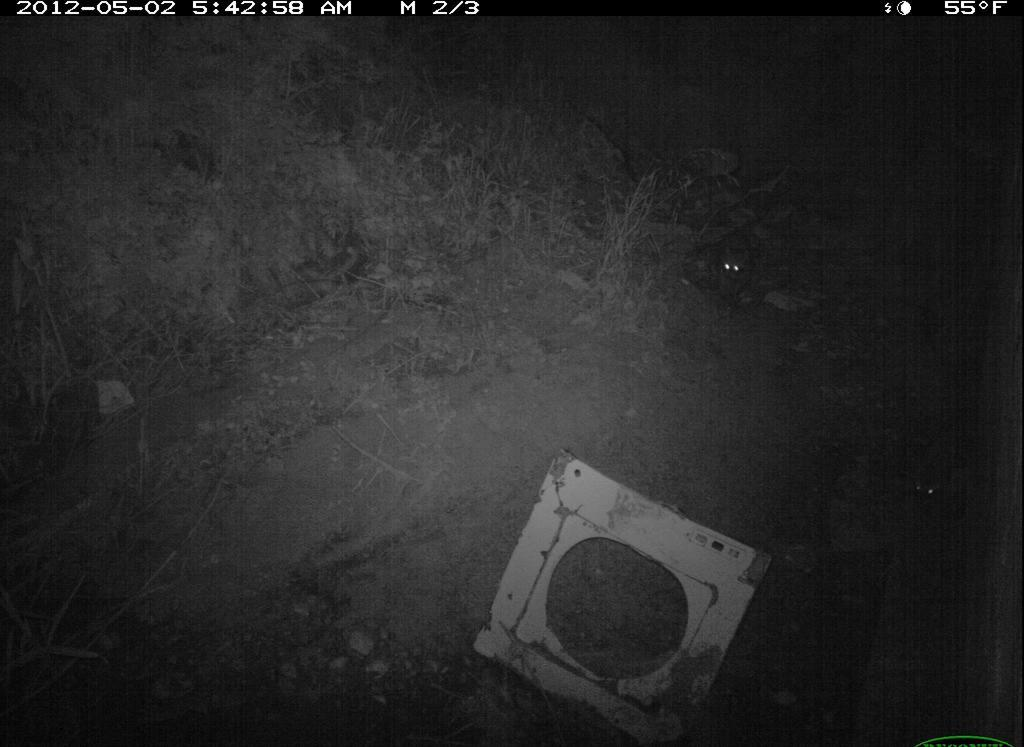raccoon: (687, 217, 771, 313), (900, 451, 962, 514)
